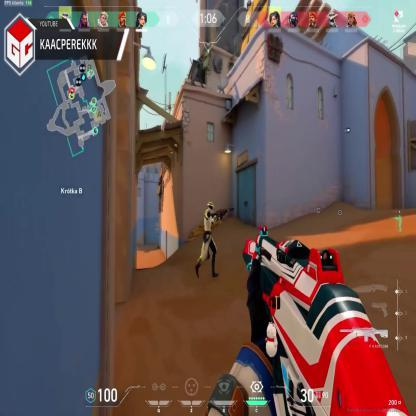enemy: (196, 201, 218, 282)
enemy_head: (206, 201, 214, 212)
